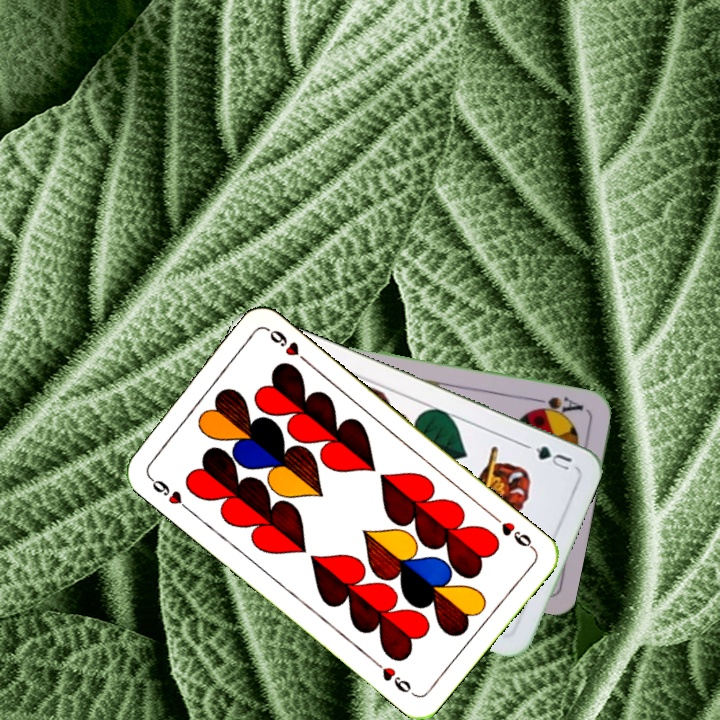GU: (521, 440, 575, 473)
H9: (487, 510, 537, 553), (144, 471, 193, 514)
SA: (528, 392, 586, 420)
